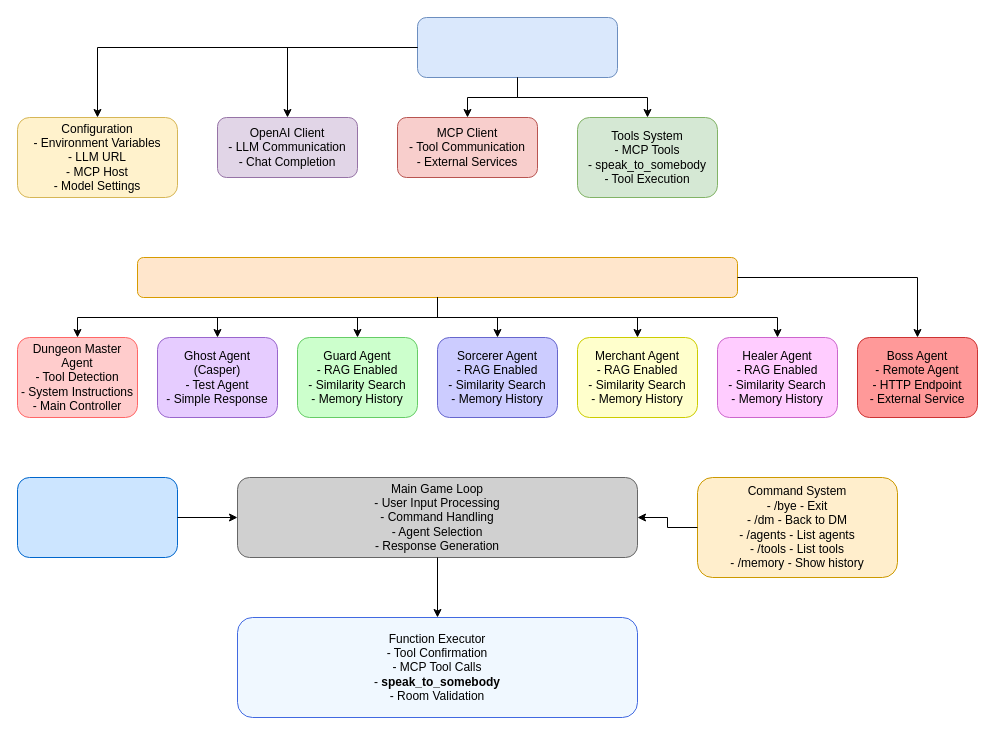
Some shapes in this 995 by 735 pixel diagram are drawn without their labels. Here are the shapes that lost their labels. From the top down, the centre of each, then its label:
the point at 517,47: Main Application (dungeon-master/main.go)
the point at 437,277: Agents Team
the point at 97,517: RAG System - Similarity Search - Context Enhancement - Knowledge Retrieval
